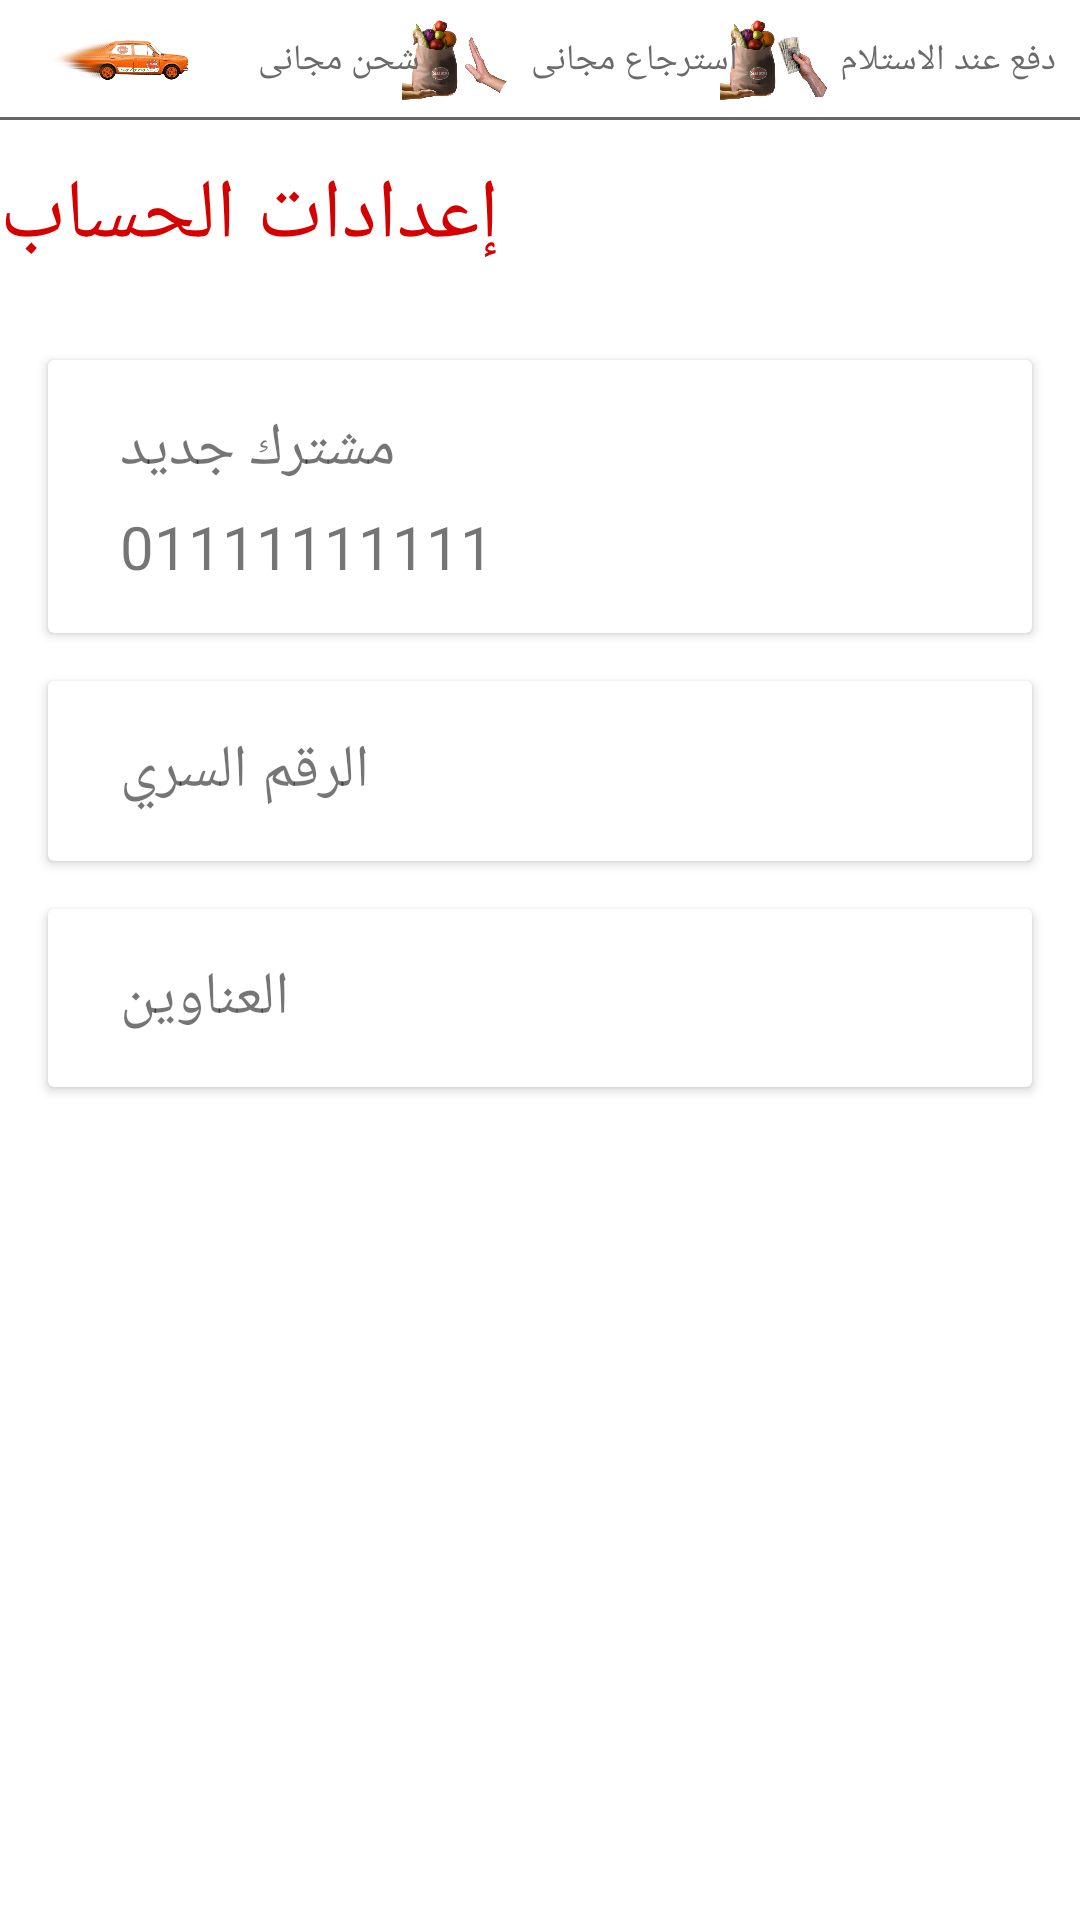

Icon click points for this 1080w x 1920h phone screenshot, format (x,y):
cash: (773,60)
freereturn: (454,60)
